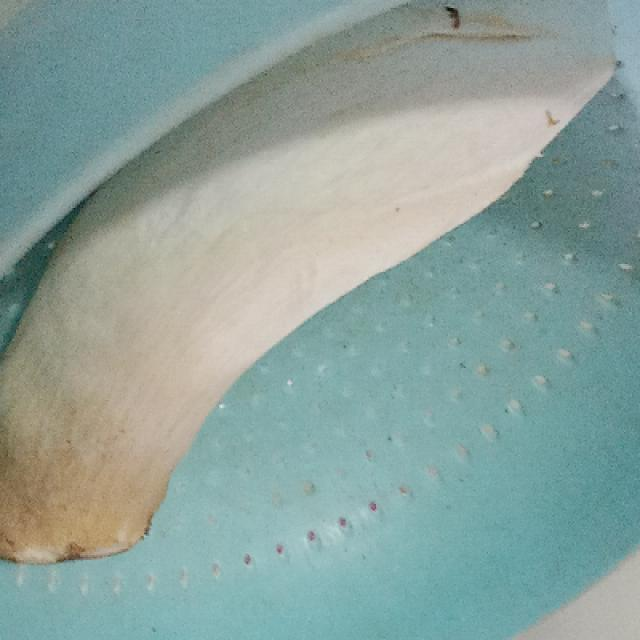Pleurotus eryngii: (0, 6, 617, 562)
